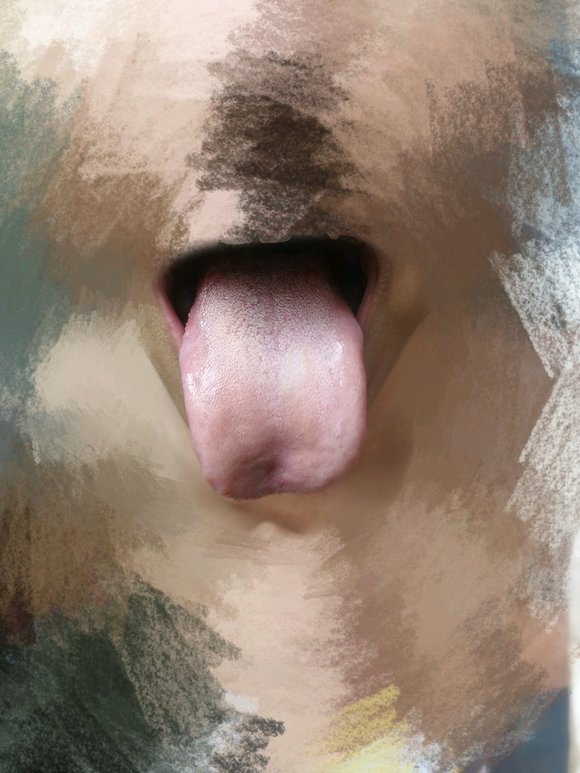baitaishe: (179, 260, 367, 500)
piweiao: (251, 438, 299, 480)
